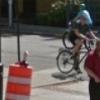bicycles: (56, 38, 99, 74)
